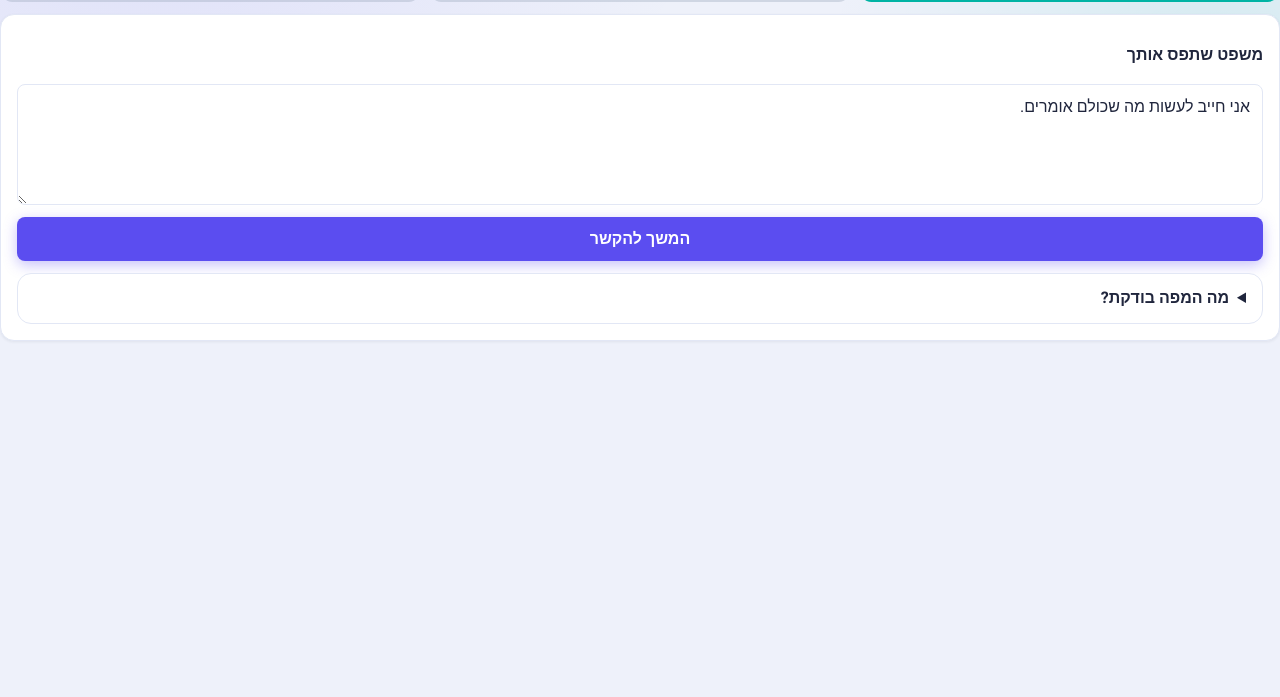
Test case: ThoughtMap mobile wizard › uses one card at a time, then analyzes and saves the map
Later steps or results of the test are not shown.
Expected: the field labelled "מה קרה סביב זה?" is not shown
Expected: the text box labelled "משפט שתפס אותך" is shown, 17,84 -> 1263,205
Click the button "המשך להקשר". click: point(640, 239)
box: 17,217 -> 1263,261
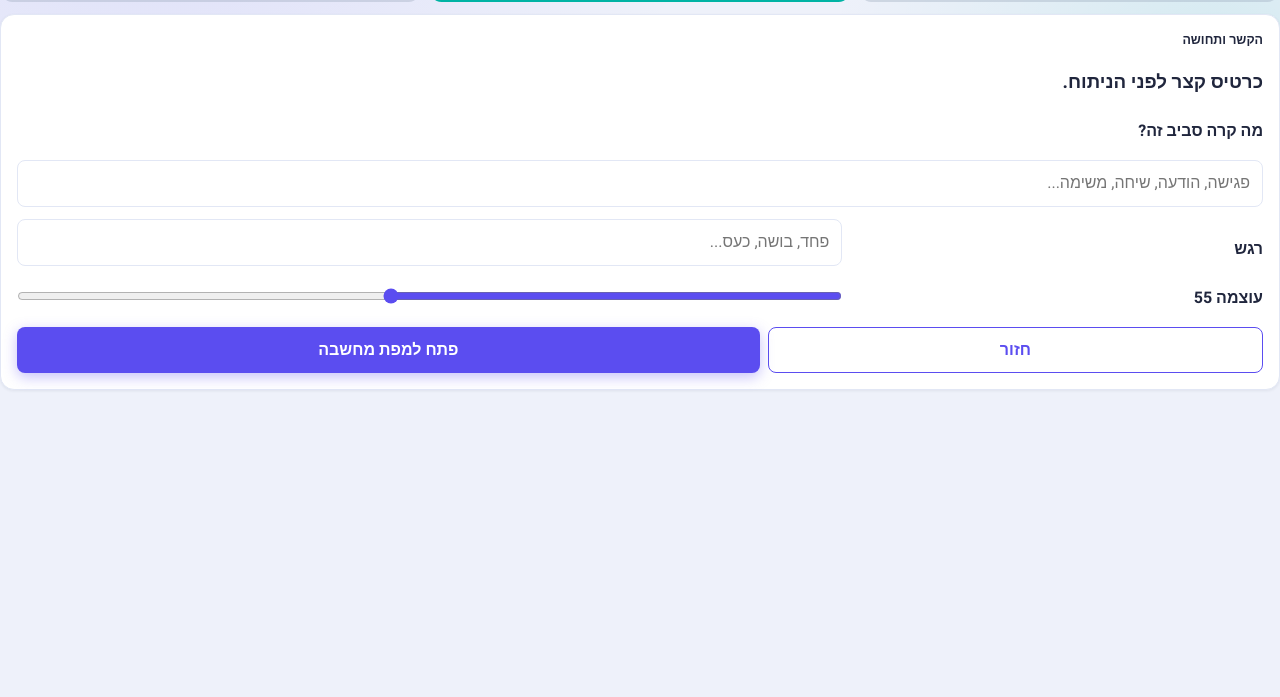
Expected: the text "הקשר ותחושה" is shown, 1182,31 -> 1263,49
Click the button "פתח למפת מחשבה". click: point(388, 350)
box: 17,327 -> 760,373
(page scrolled)
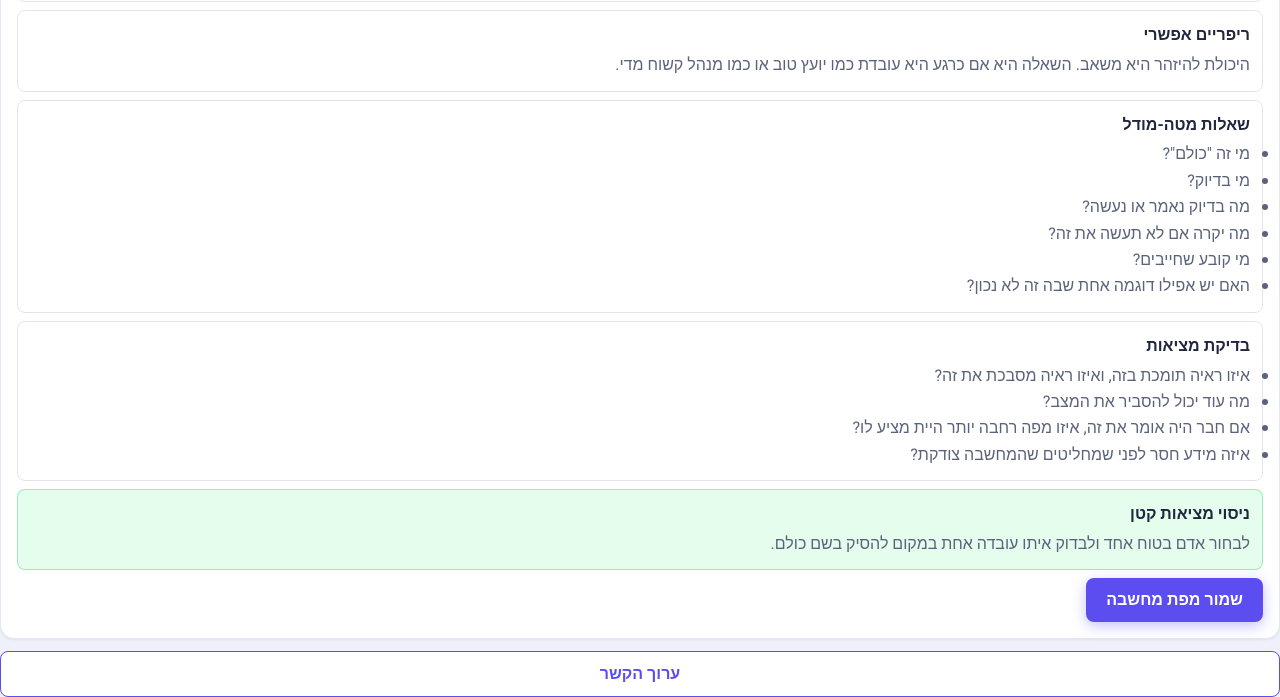
Expected: the list item "מי זה \"כולם\"?" is shown, 1162,142 -> 1250,166
